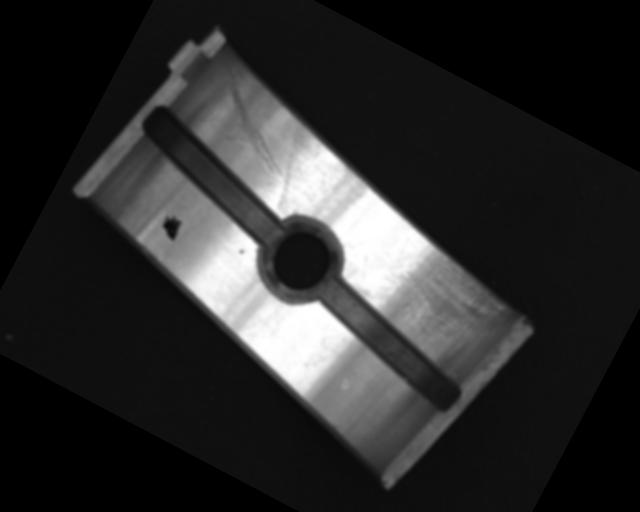blot: (156, 211, 184, 242)
bruise: (338, 375, 353, 392), (237, 248, 244, 255)
gap: (117, 102, 310, 253), (297, 274, 483, 416)
hole: (247, 204, 354, 315)
nick: (190, 61, 327, 188)
scratch: (344, 222, 524, 372)
